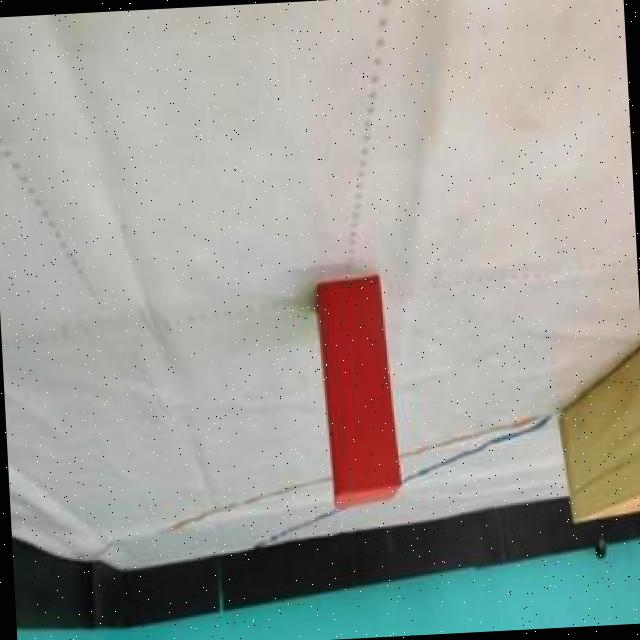redbox: (314, 274, 400, 514)
